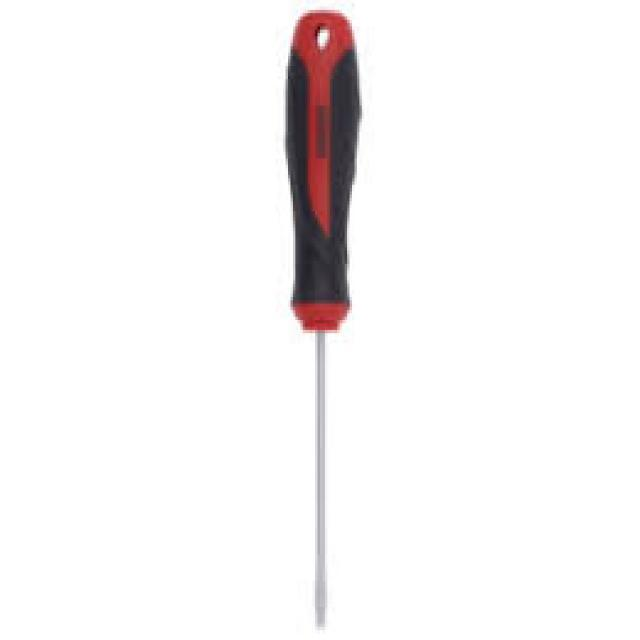screwdriver: (282, 7, 363, 630)
